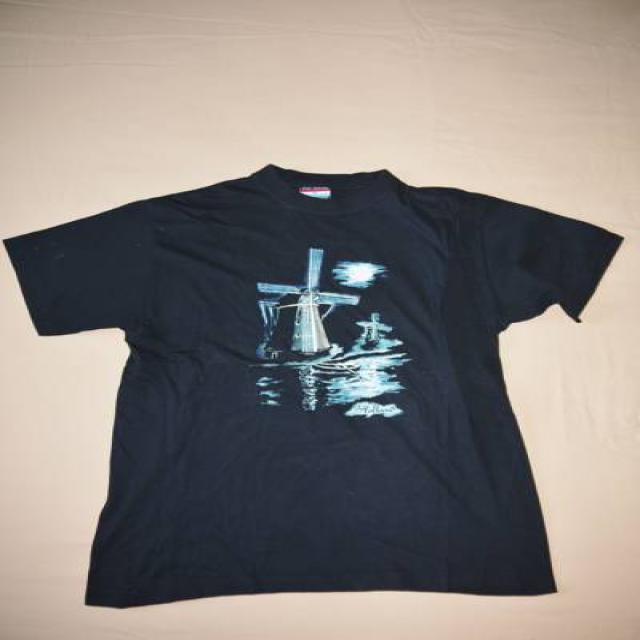shirt: (0, 164, 625, 612)
